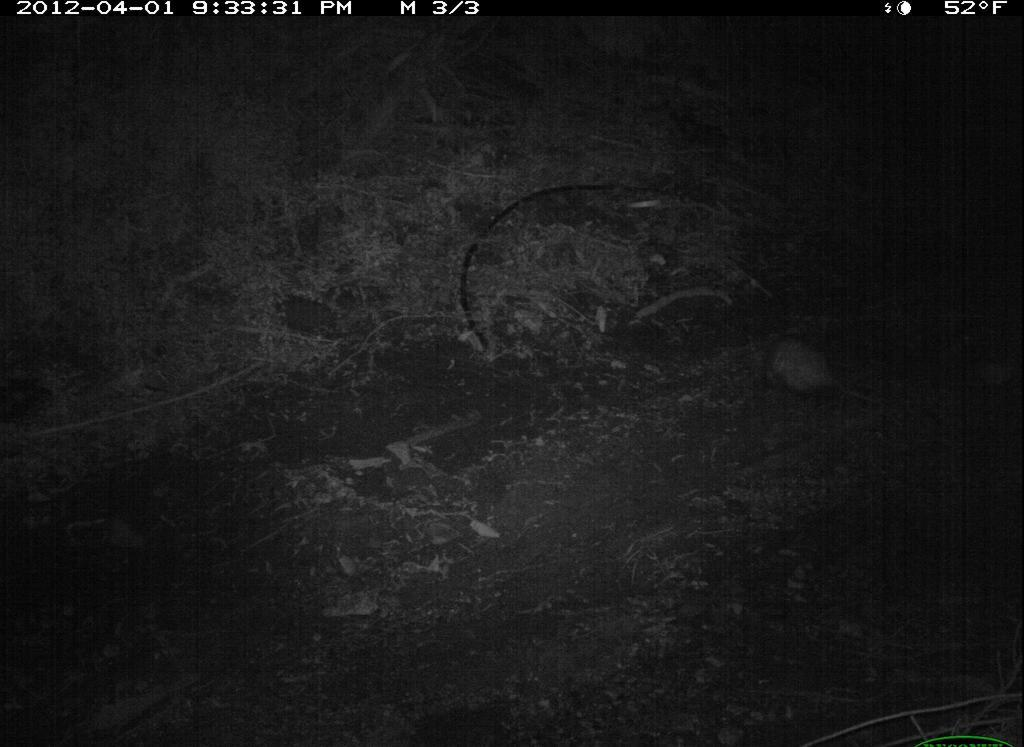opossum: (760, 323, 890, 425)
